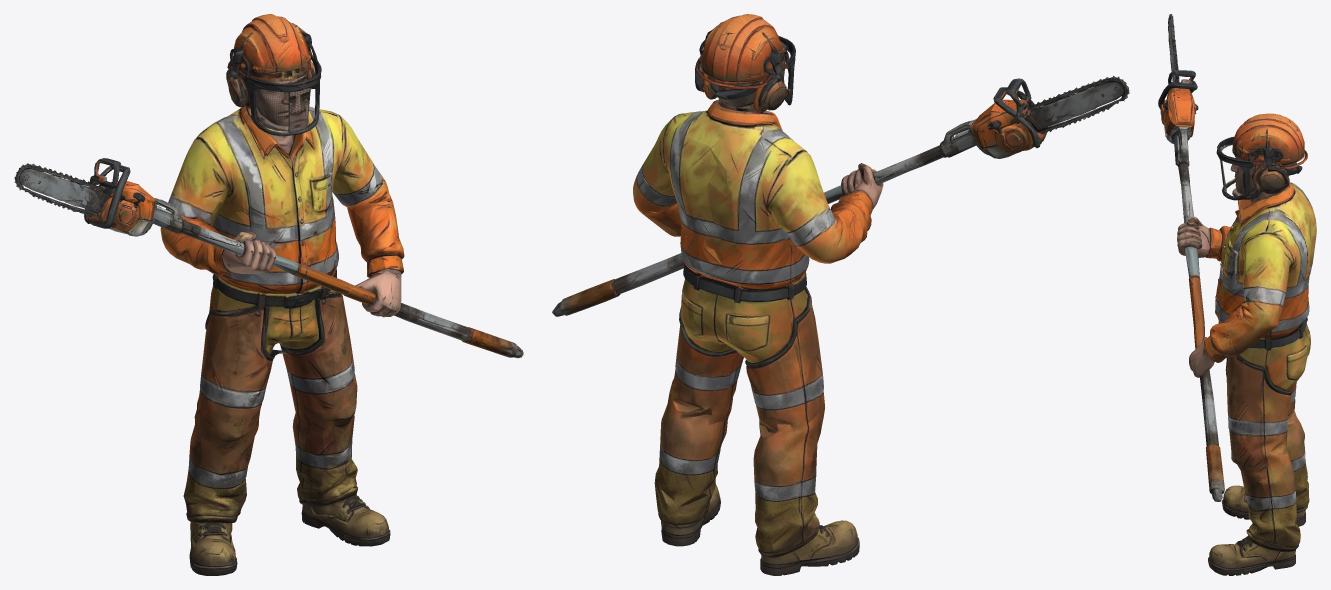
The model's file is vegetation_worker.glb.
3 views of the same model, side by side, from view 1: azimuth 30°, elevation 25°; view 2: azimuth 150°, elevation 25°; view 3: azimuth 270°, elevation 25° (orthographic). The views are drawn at different scales.
Size of the model in its own units: 1.9 by 1.76 by 0.5953.
1 material, 1 textured.
